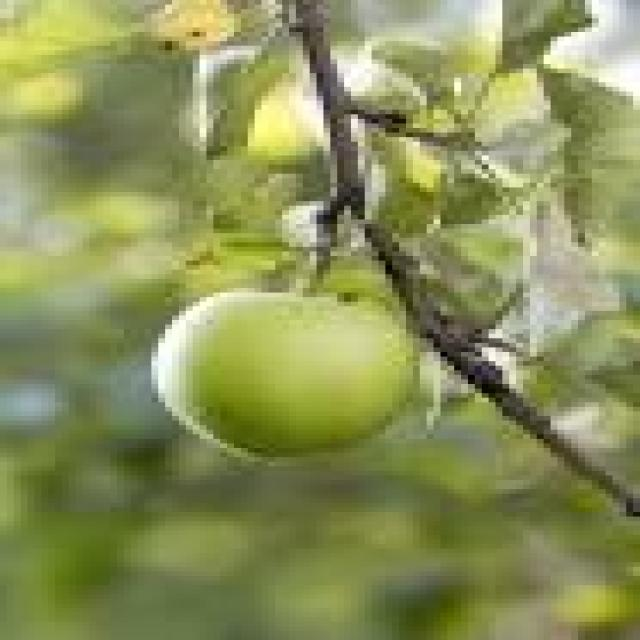apple: (152, 293, 419, 457)
